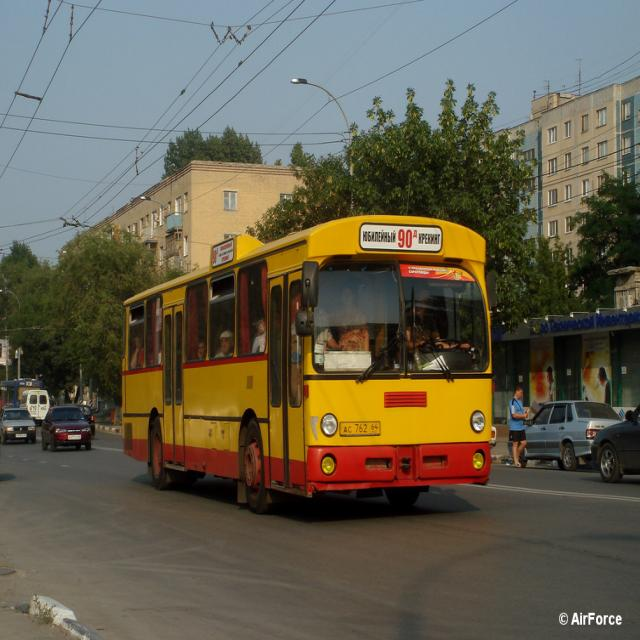number-of-bus: (398, 227, 420, 252)
